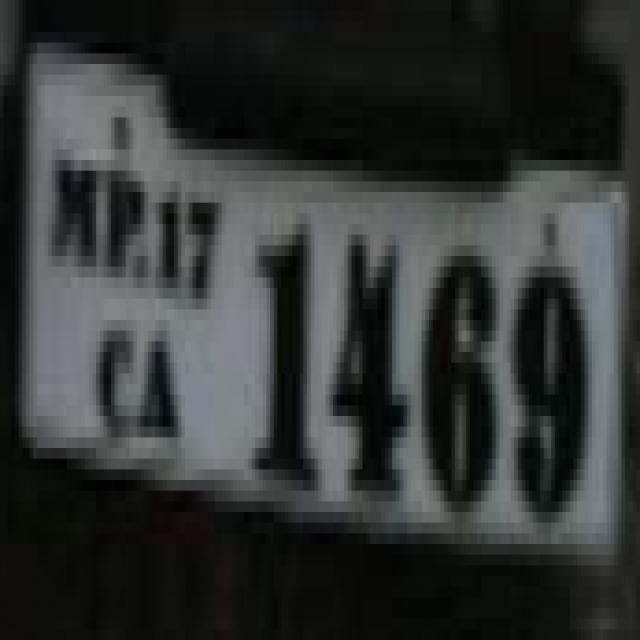plate: (4, 64, 606, 597)
